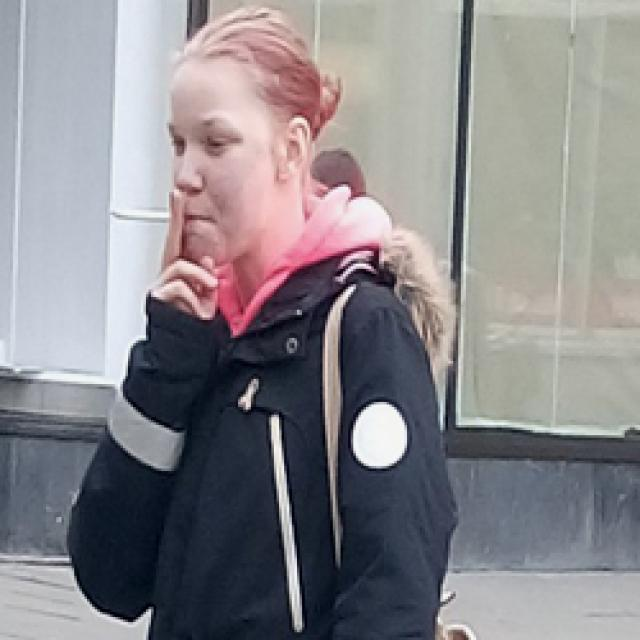Smooking: (107, 202, 166, 228)
